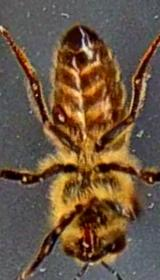varroa_mite: (47, 92, 71, 136)
